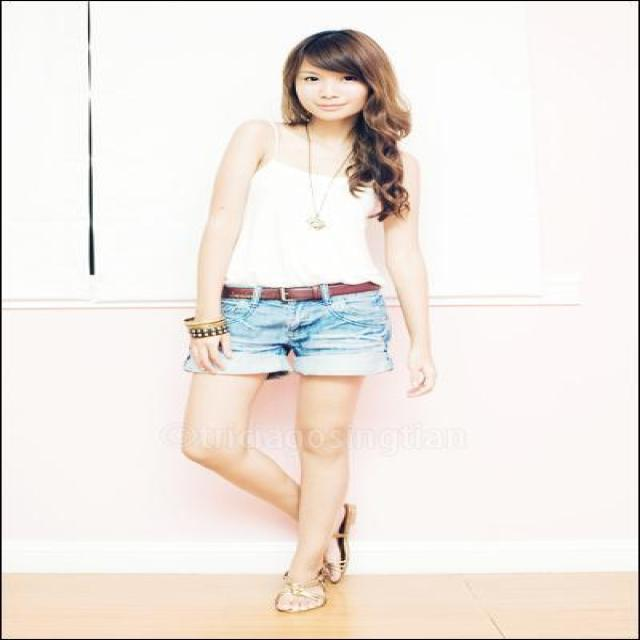shirt: (227, 125, 395, 293)
shoe: (274, 554, 344, 611)
shorts: (221, 284, 406, 379)
